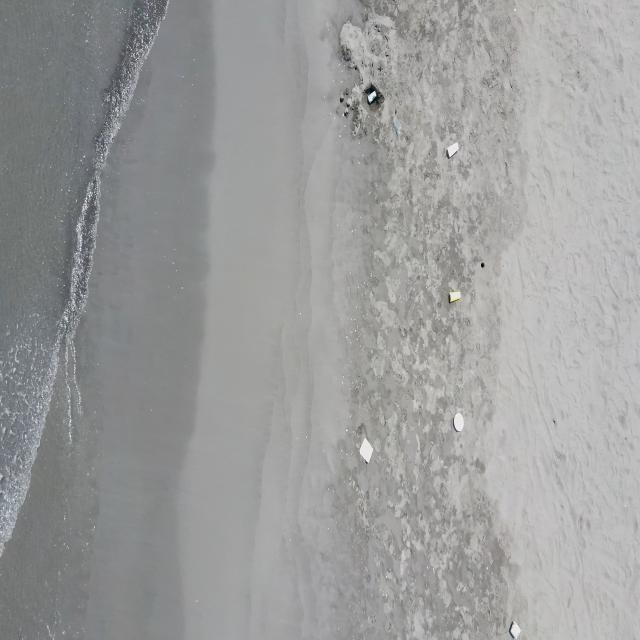take-away-containers: (359, 437, 374, 464), (453, 412, 465, 433), (511, 621, 522, 639)
takeaway-cup: (447, 141, 459, 159), (393, 116, 403, 135), (448, 290, 461, 303), (367, 89, 377, 105)
